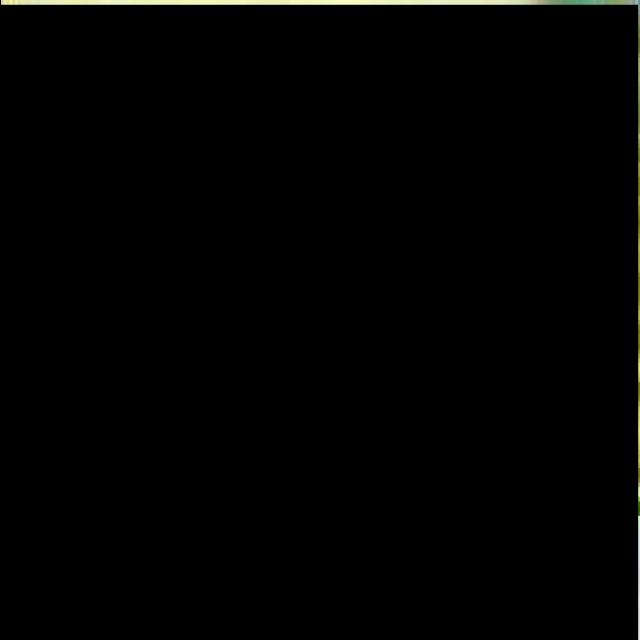smoke: (0, 5, 637, 640)
